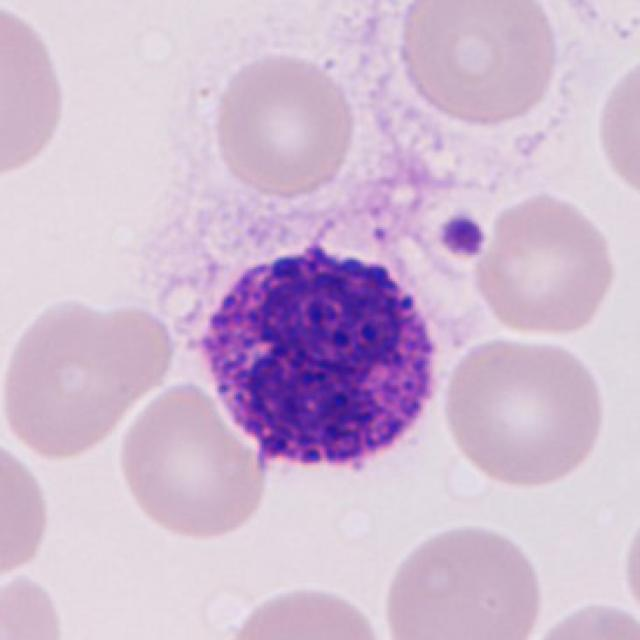Basophil: (184, 234, 453, 491)
Platelets: (436, 210, 490, 262)
RBC: (435, 330, 612, 492), (112, 378, 273, 543), (0, 293, 143, 463), (468, 187, 620, 340), (208, 47, 359, 198), (393, 0, 565, 130), (378, 517, 549, 640), (0, 0, 70, 186), (65, 295, 176, 404), (218, 577, 390, 640), (0, 432, 54, 583), (591, 47, 640, 203), (519, 595, 640, 640), (0, 565, 70, 640), (551, 0, 640, 50), (617, 496, 640, 631)
